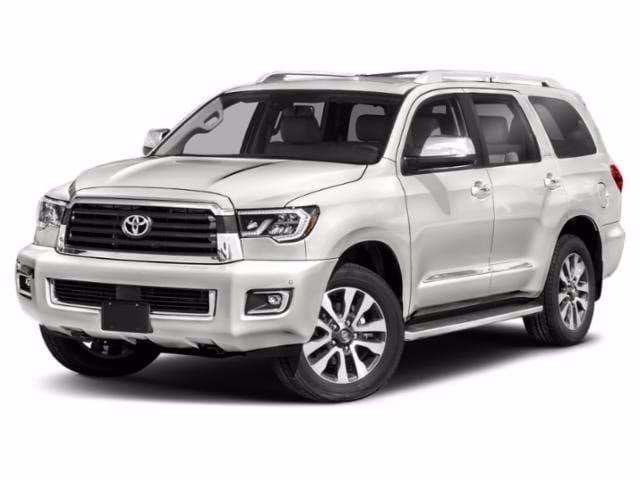toyota: (16, 68, 626, 404)
